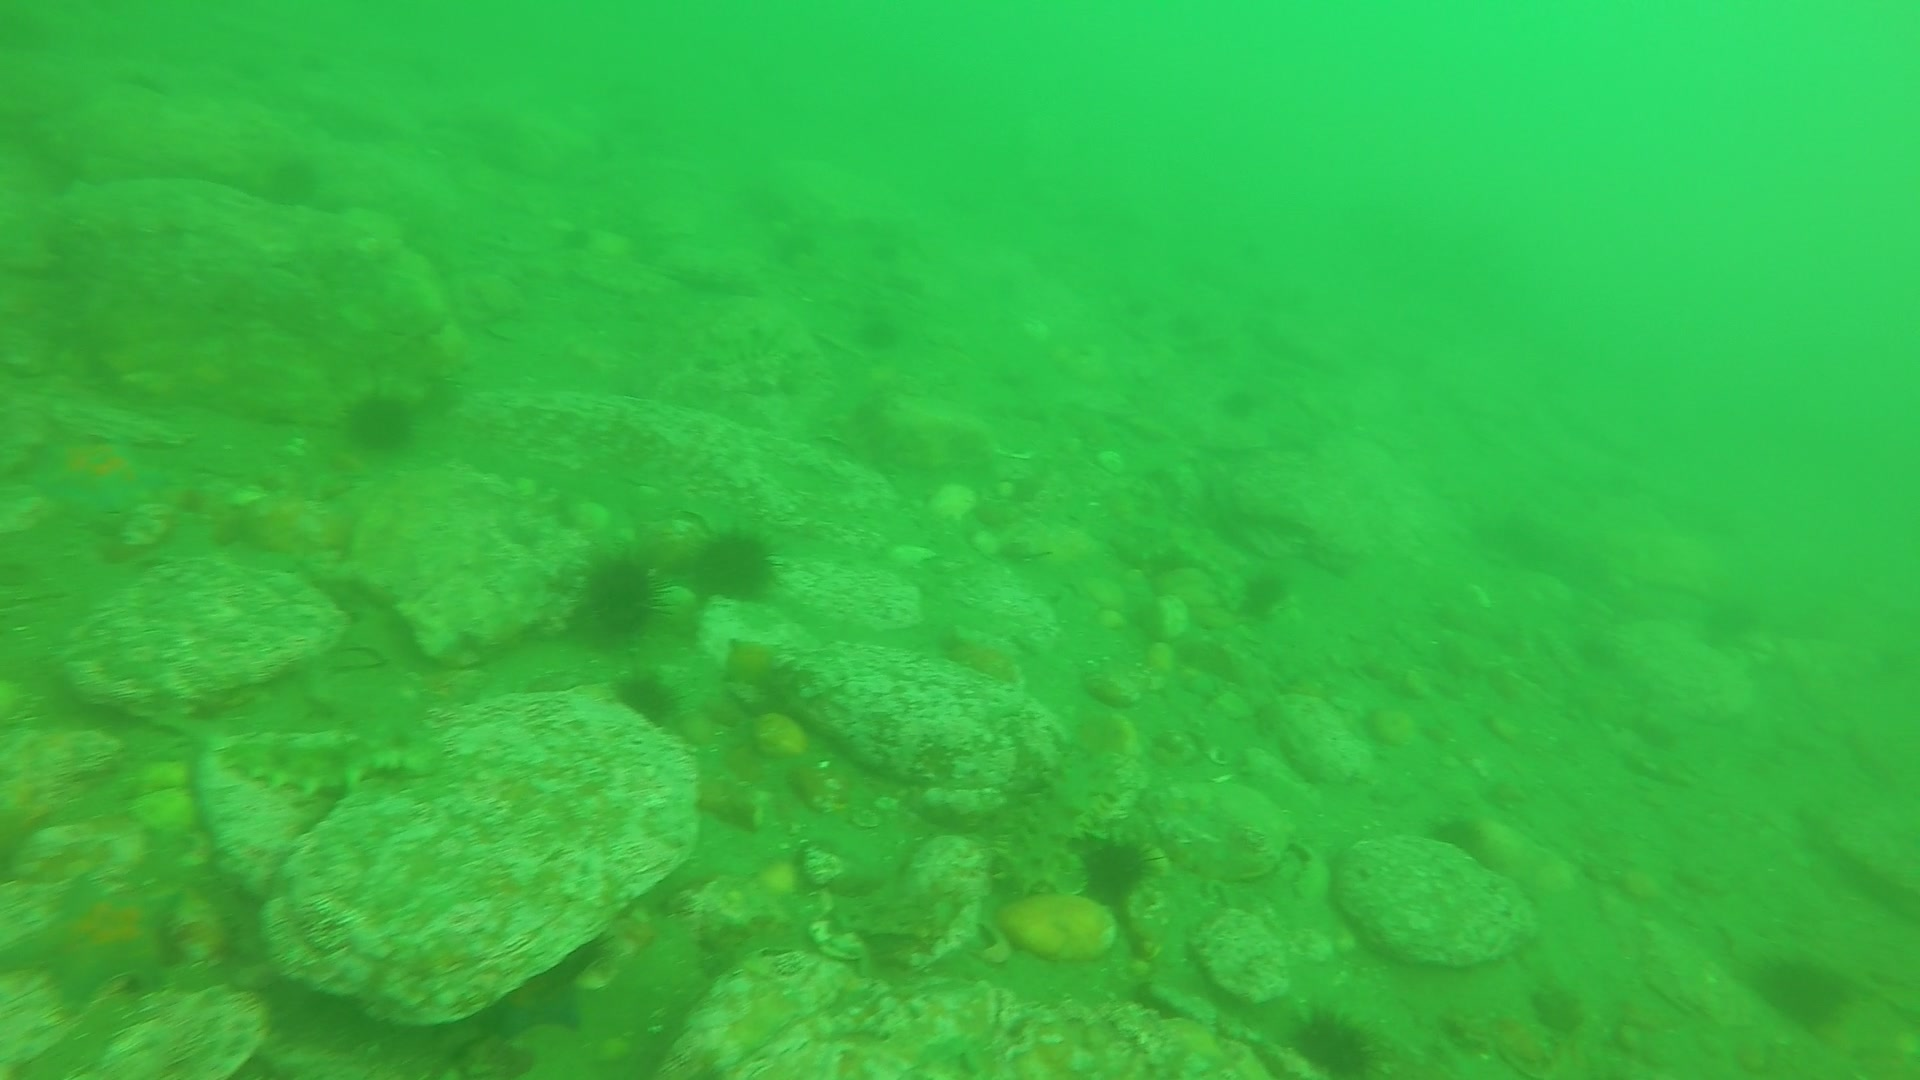echinus: (1745, 952, 1871, 1046), (261, 976, 371, 1060), (1075, 829, 1170, 909), (694, 527, 789, 605), (338, 392, 418, 469), (579, 556, 655, 634), (1280, 1014, 1367, 1080), (604, 667, 688, 733), (1424, 812, 1487, 874), (266, 161, 323, 218), (1236, 568, 1290, 621)
holothurian: (981, 738, 1120, 903), (216, 728, 439, 799)
starfish: (1, 874, 186, 1017), (38, 434, 164, 531)
